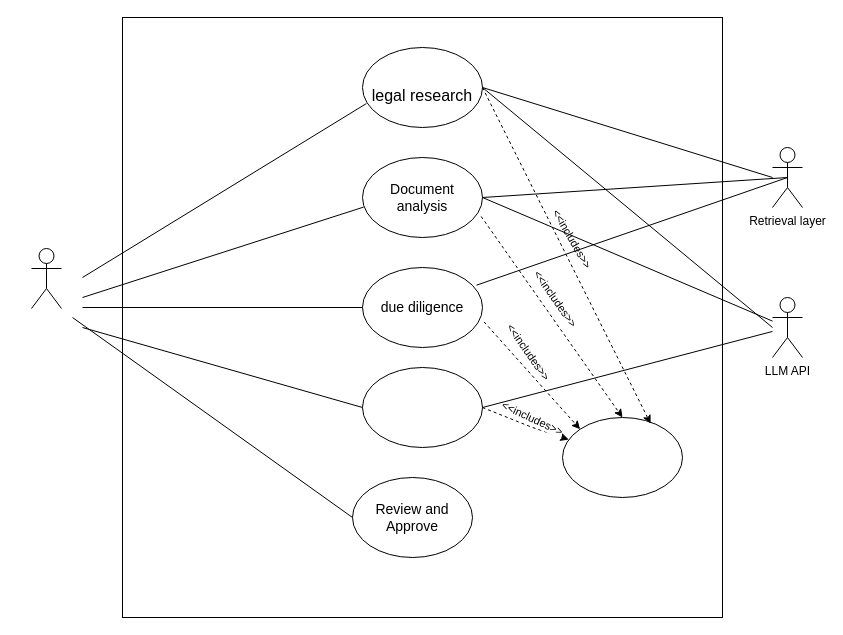
The diagram is 843 pixels wide and 635 high, and some of its shapes have lost their labels. The box of each missing label's shape, as (x1, y1, x2, y2) in pixels:
Generate report: (362, 366, 482, 448)
User/Client: (30, 248, 62, 308)
verify citation: (562, 416, 682, 498)
